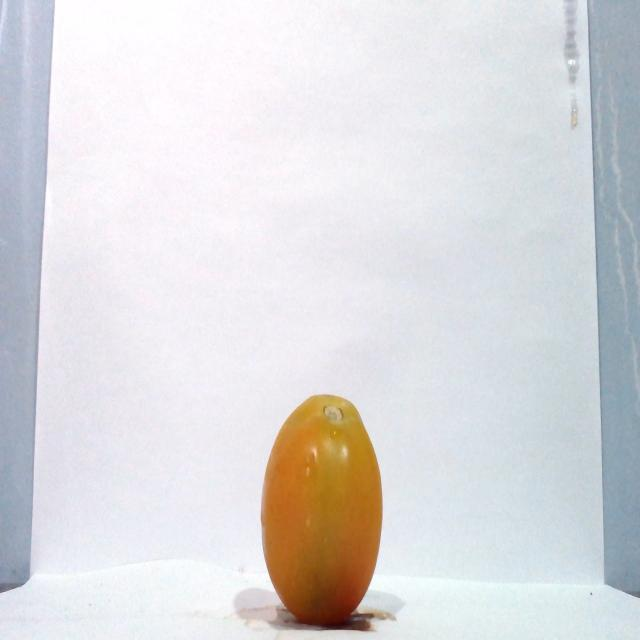Red: (259, 392, 384, 626)
